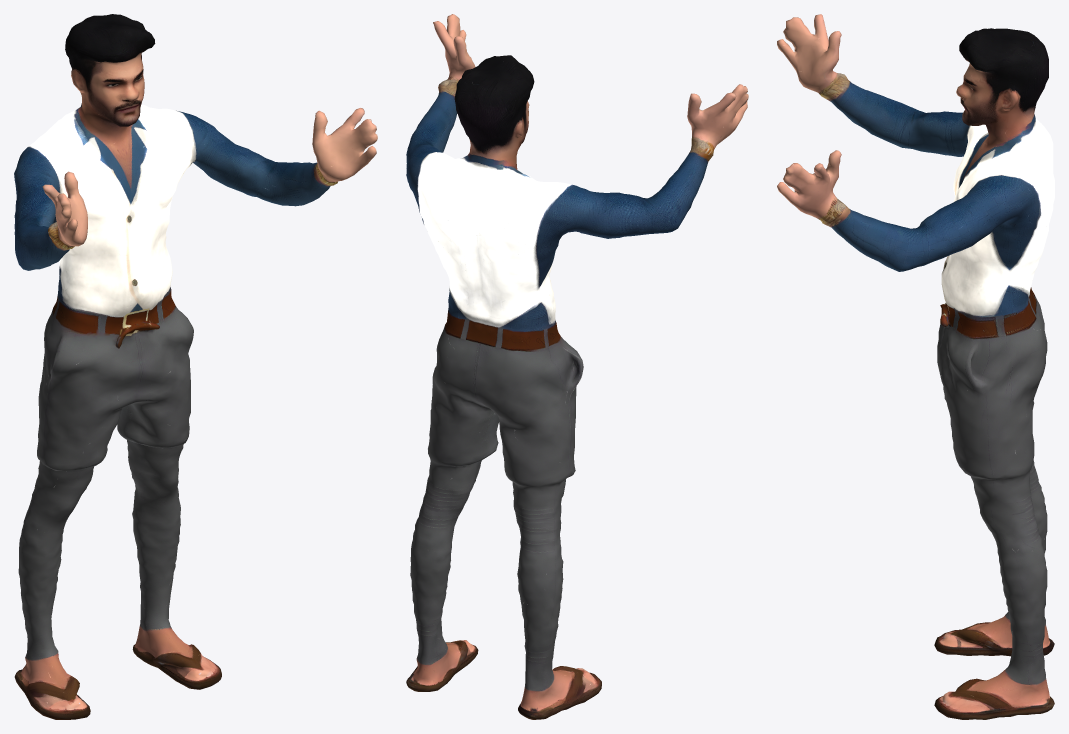
File: Meshy_AI_Stylized_semi_realist_0424223201_texture.glb
3 renders of one model, left to right at view 1: azimuth 30°, elevation 25°; view 2: azimuth 150°, elevation 25°; view 3: azimuth 270°, elevation 25°, orthographic. The views are drawn at different scales.
Size of the model in its own units: 0.9667 by 1.91 by 0.7397.
1 material, 1 textured.
